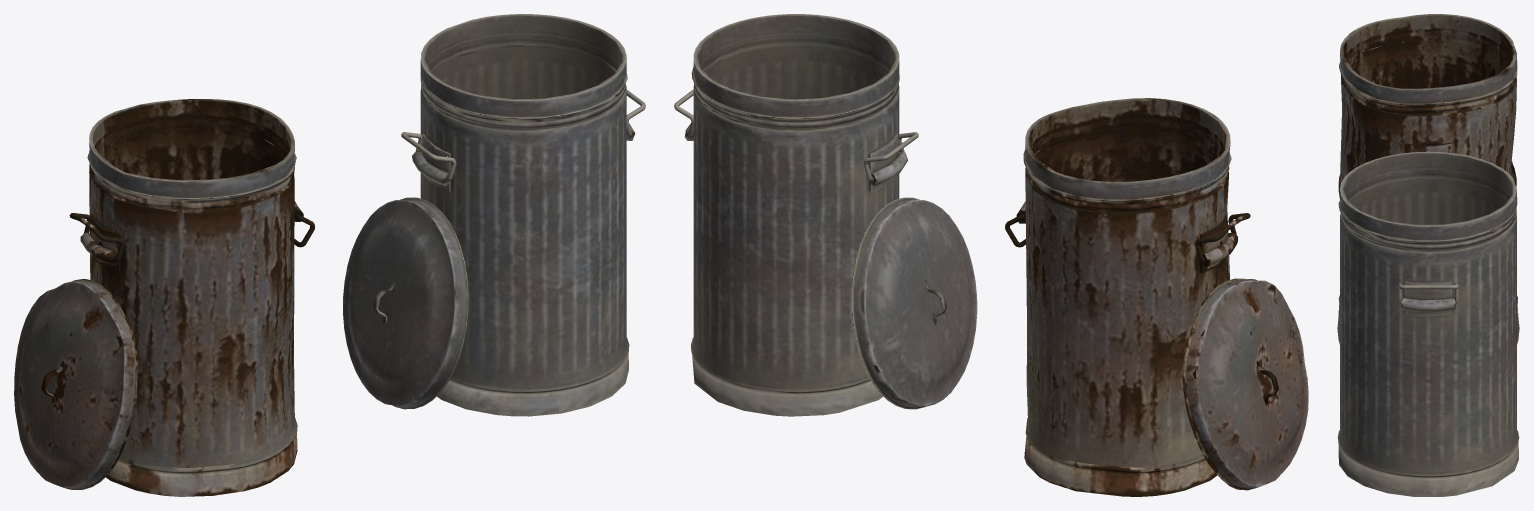
File: metal_trash_can.glb
3 renders of one model, left to right at view 1: azimuth 30°, elevation 25°; view 2: azimuth 150°, elevation 25°; view 3: azimuth 270°, elevation 25°, orthographic. The views are drawn at different scales.
Visible parts, largest first — view 1: metal_trash_can, metal_trash_can_rust, metal_trash_can_lid, metal_trash_can_rust_lid; view 2: metal_trash_can, metal_trash_can_rust, metal_trash_can_lid, metal_trash_can_rust_lid; view 3: metal_trash_can, metal_trash_can_rust, metal_trash_can_handle_right.
Part boxes in pixels (left/top/right/bottom): metal_trash_can: left=412, top=14, right=635, bottom=416; metal_trash_can_rust: left=80, top=99, right=303, bottom=496; metal_trash_can_lid: left=343, top=197, right=468, bottom=409; metal_trash_can_rust_lid: left=14, top=279, right=137, bottom=489; metal_trash_can: left=685, top=14, right=907, bottom=416; metal_trash_can_rust: left=1016, top=98, right=1237, bottom=496; metal_trash_can_lid: left=851, top=197, right=977, bottom=409; metal_trash_can_rust_lid: left=1183, top=278, right=1308, bottom=490; metal_trash_can: left=1337, top=151, right=1519, bottom=496; metal_trash_can_rust: left=1338, top=14, right=1518, bottom=317; metal_trash_can_handle_right: left=1398, top=283, right=1458, bottom=304.
Size of the model in its own units: 1.78 by 0.9062 by 0.5543.
2 materials, 2 textured.
